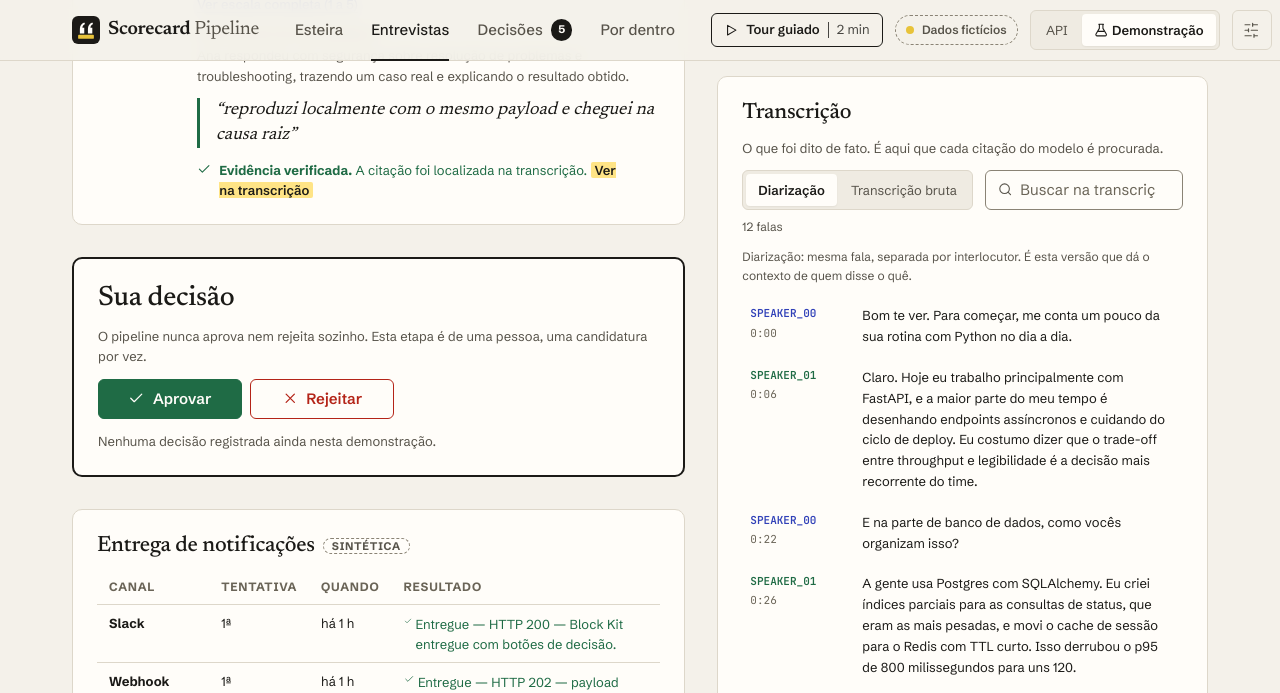
Test: demo mode isolation › completes a decision — the only write in the product — offline
(page scrolled)
Click the button "Aprovar" at (170, 398), box [98, 378, 242, 418]
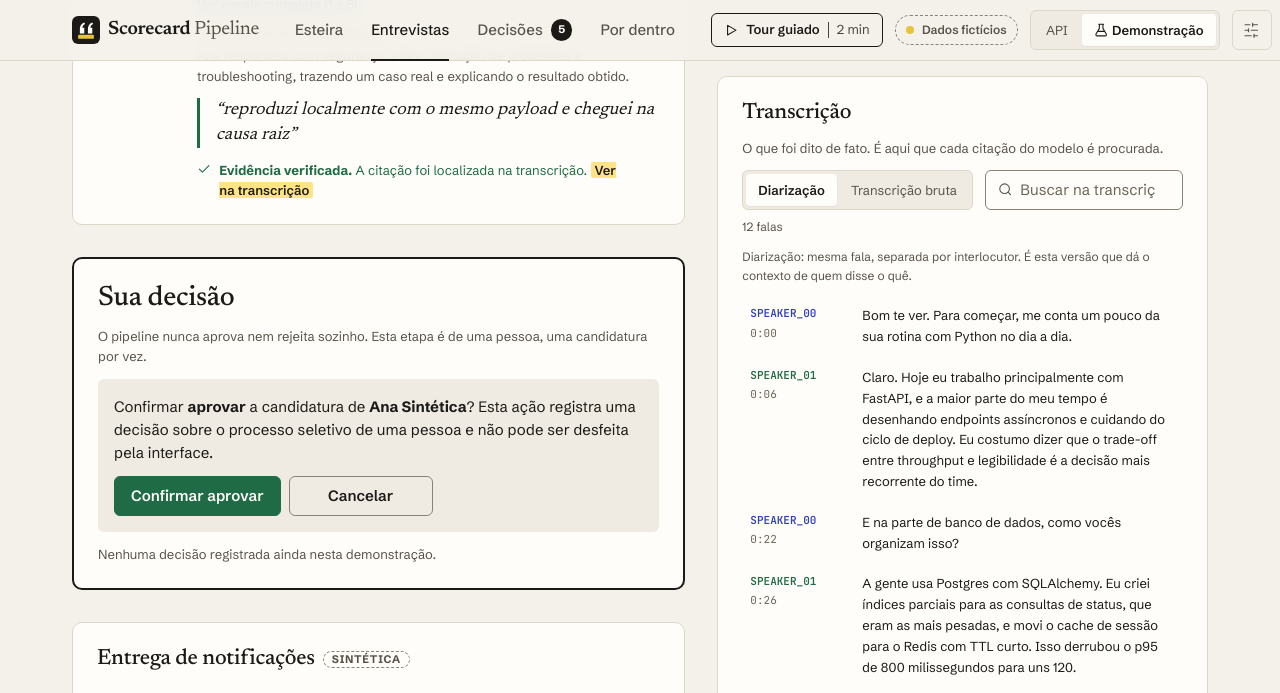
Now the element named "Confirmar decisão" shows "Ana Sintética", box [369, 396, 467, 416]
Click the button "Confirmar aprovar" at (197, 496), box [114, 476, 281, 516]
(page scrolled)
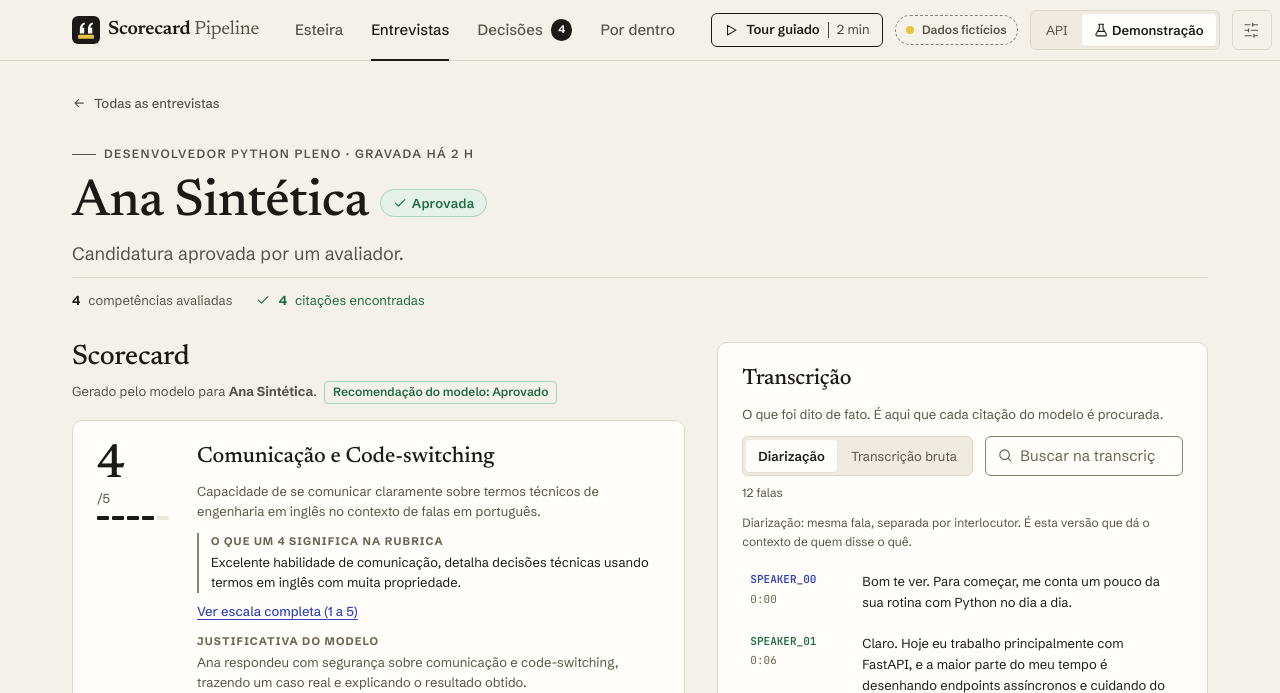
Now the text "Aprovada" is shown, box [412, 193, 474, 213]
